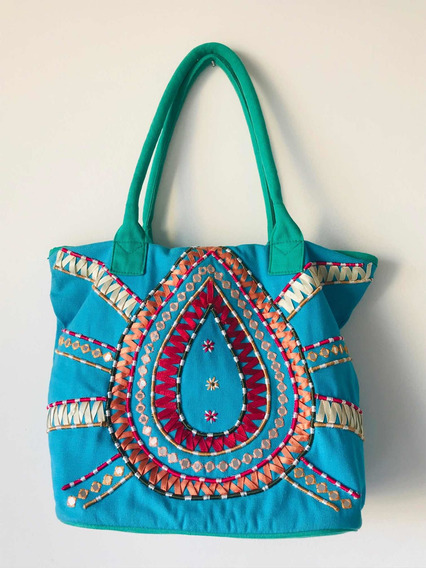cartera: (44, 41, 380, 540)
